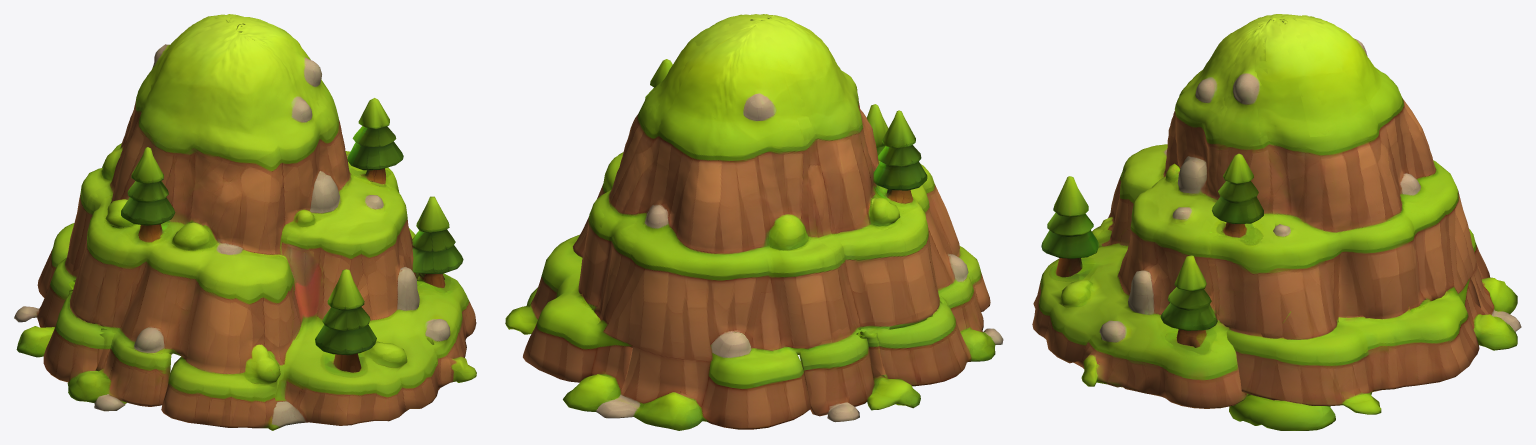
Rendered from mountain_map.glb.
The picture shows the model from 3 angles, left to right: view 1: azimuth 30°, elevation 25°; view 2: azimuth 150°, elevation 25°; view 3: azimuth 270°, elevation 25°; orthographic projection. The views are drawn at different scales.
Parts seen in each view (by area): view 1: Mesh_0; view 2: Mesh_0; view 3: Mesh_0.
Boxes of the visible parts, left/top/right/bottom form: Mesh_0: left=14, top=14, right=476, bottom=430; Mesh_0: left=505, top=14, right=1003, bottom=430; Mesh_0: left=1032, top=14, right=1521, bottom=430.
Bounding box in the file's own units: 0.1593 × 0.12 × 0.1697.
Materials: 1 (1 with a texture image).
